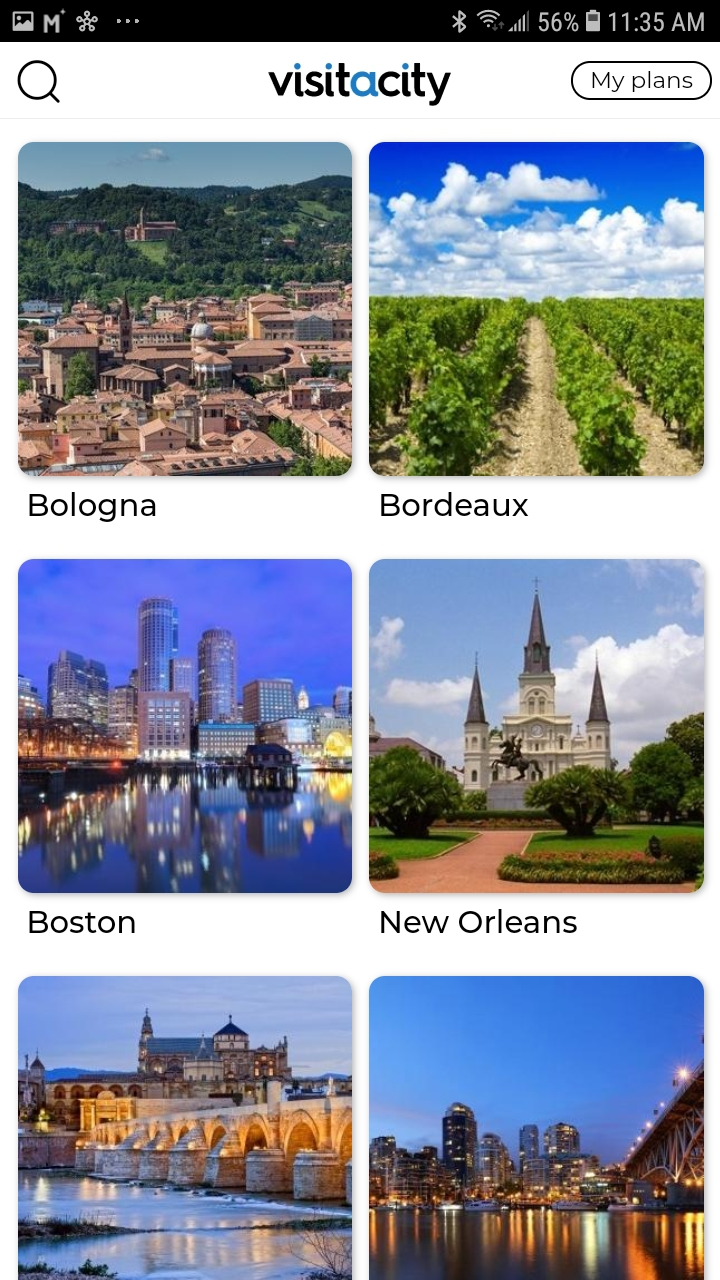Icon: (18, 60, 62, 104)
Image: (369, 559, 705, 894), (18, 559, 353, 894), (369, 142, 704, 477), (18, 142, 353, 477), (368, 976, 704, 1280), (19, 976, 353, 1280), (268, 64, 452, 108)
Text: (381, 908, 578, 934), (29, 491, 157, 523), (382, 492, 529, 517), (30, 911, 136, 933)
TextButton: (570, 62, 712, 102)
UpperTaskBar: (1, 1, 720, 43)
